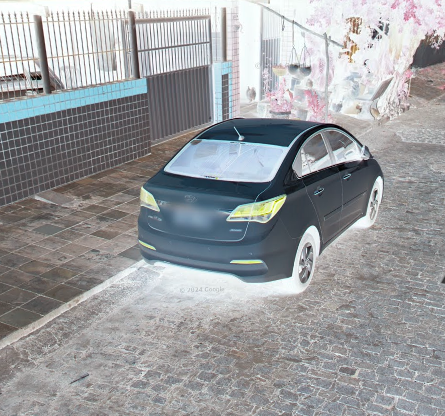car: (136, 115, 386, 297)
